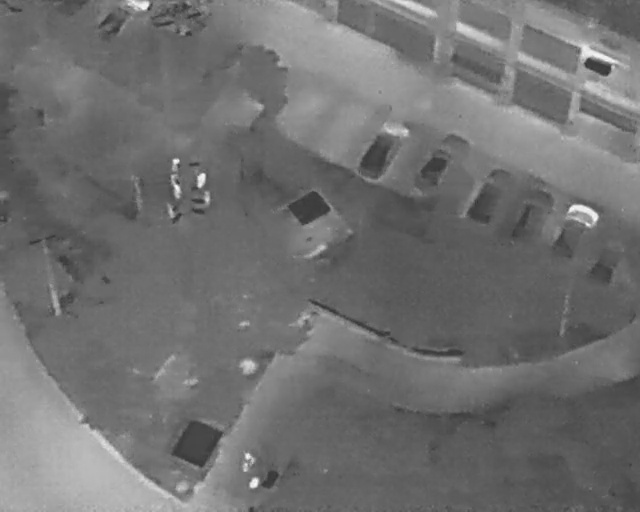Car: (351, 112, 414, 189), (412, 125, 474, 197), (501, 182, 559, 254), (460, 159, 518, 230), (545, 197, 602, 267), (584, 231, 631, 288), (95, 1, 151, 40)
Person: (239, 451, 256, 474)
